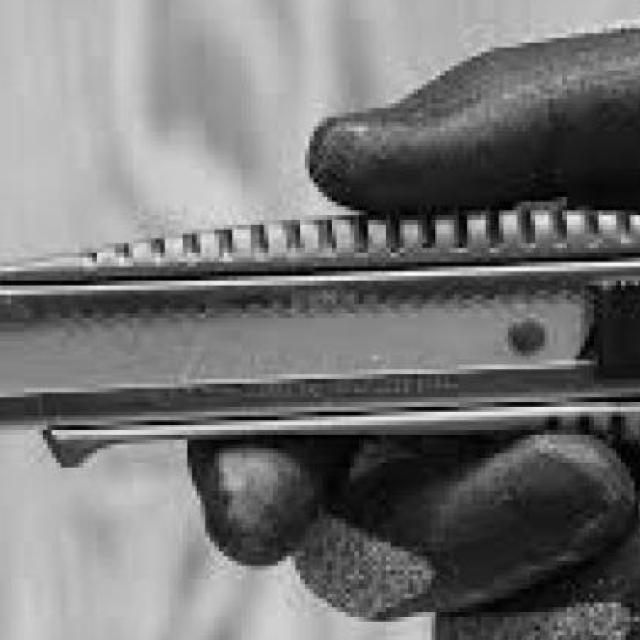estilete: (0, 204, 640, 464)
